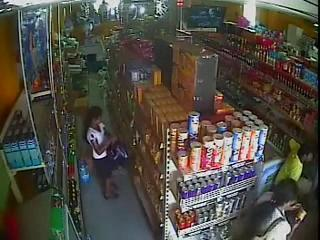Normal: (229, 179, 307, 240)
